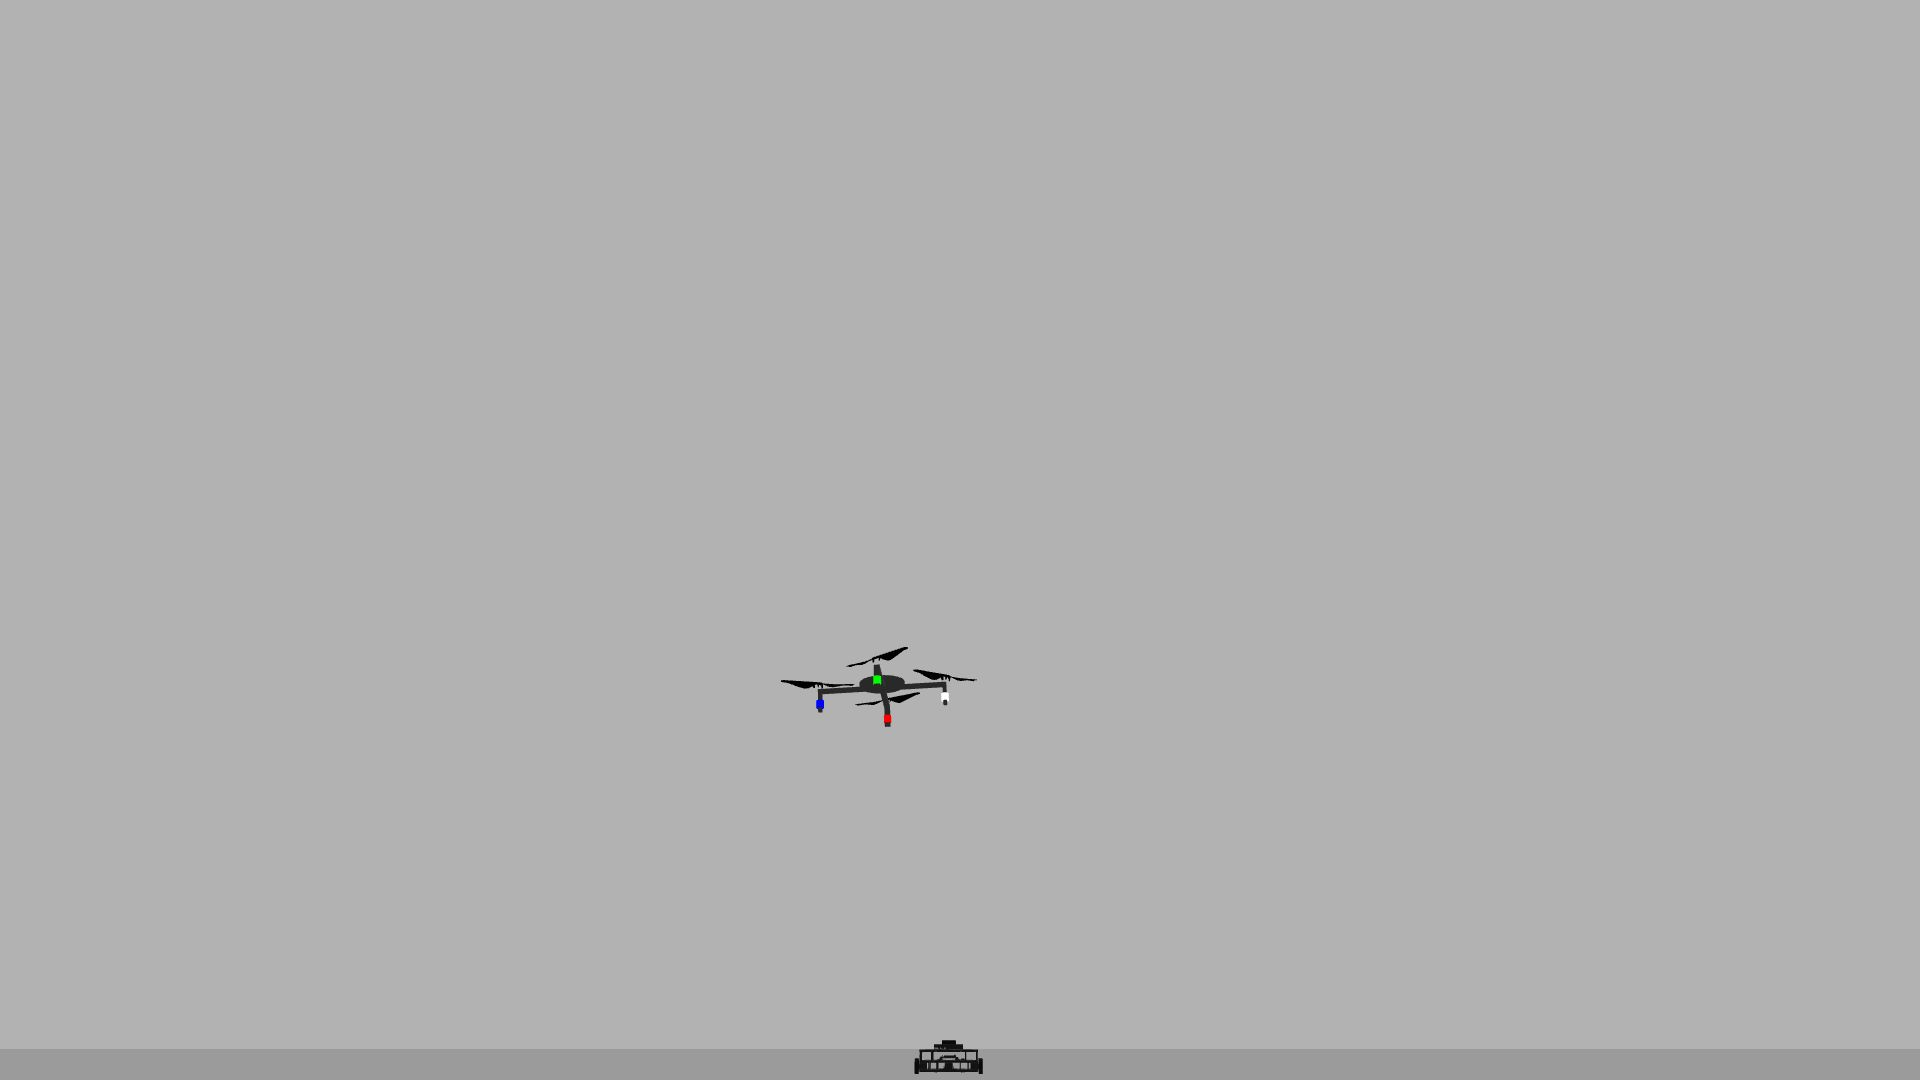drone: (766, 615, 990, 757)
